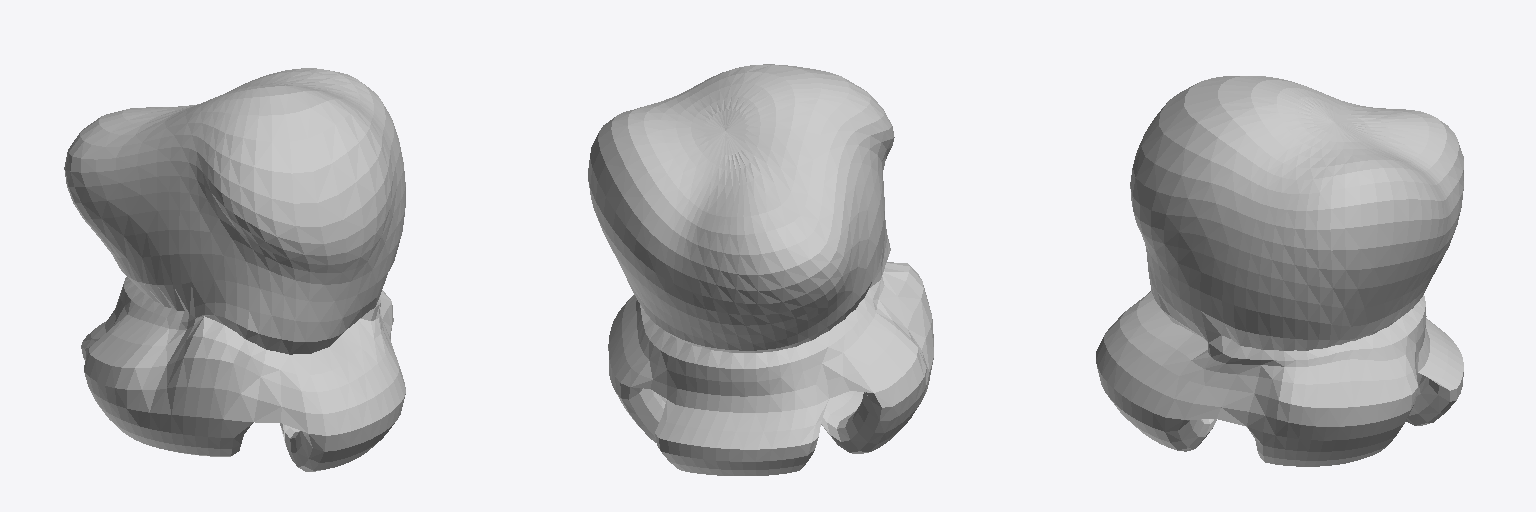
The model's file is popped.obj.
The picture shows the model from 3 angles: view 1: azimuth 30°, elevation 25°; view 2: azimuth 150°, elevation 25°; view 3: azimuth 270°, elevation 25°; orthographic projection.
Bounding box in the file's own units: 2.39 × 2.56 × 2.53.